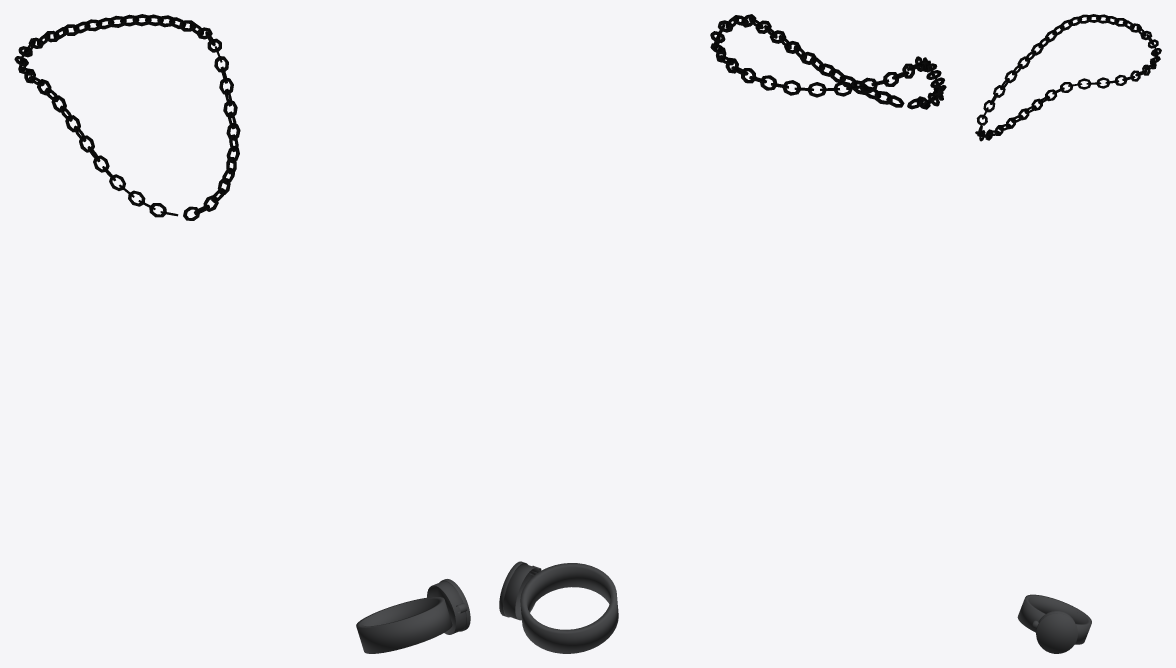
The model's file is Exit6_Jewelry.glb.
3 renders of one model, left to right at view 1: azimuth 30°, elevation 25°; view 2: azimuth 150°, elevation 25°; view 3: azimuth 270°, elevation 25°, orthographic. The views are drawn at different scales.
Parts seen in each view (by area): view 1: Exit6_Chain, Exit6_Watch; view 2: Exit6_Watch, Exit6_Chain; view 3: Exit6_Chain, Exit6_Watch.
Part boxes in pixels (left/top/right/bottom): Exit6_Chain: left=14, top=14, right=240, bottom=220; Exit6_Watch: left=356, top=579, right=470, bottom=653; Exit6_Watch: left=499, top=561, right=618, bottom=653; Exit6_Chain: left=710, top=14, right=946, bottom=109; Exit6_Chain: left=975, top=14, right=1161, bottom=141; Exit6_Watch: left=1017, top=594, right=1091, bottom=653.
Bounding box in the file's own units: 1.3 × 1.96 × 0.6679.
2 materials, 2 textured.
